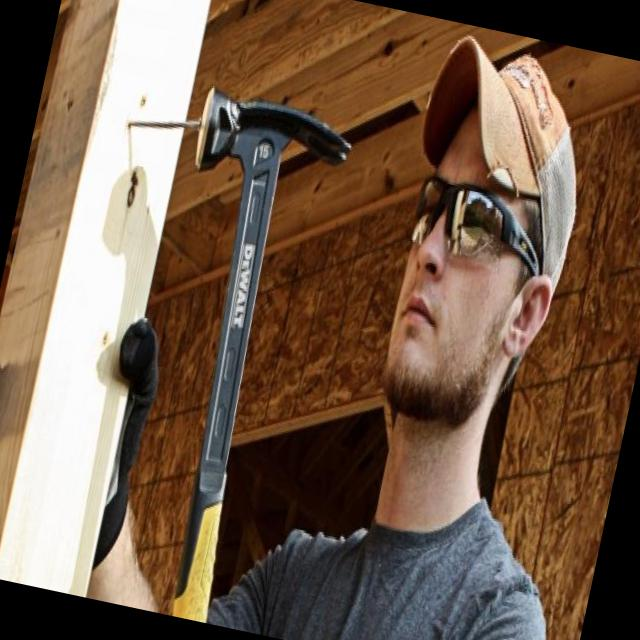Gloves: (68, 286, 188, 571)
